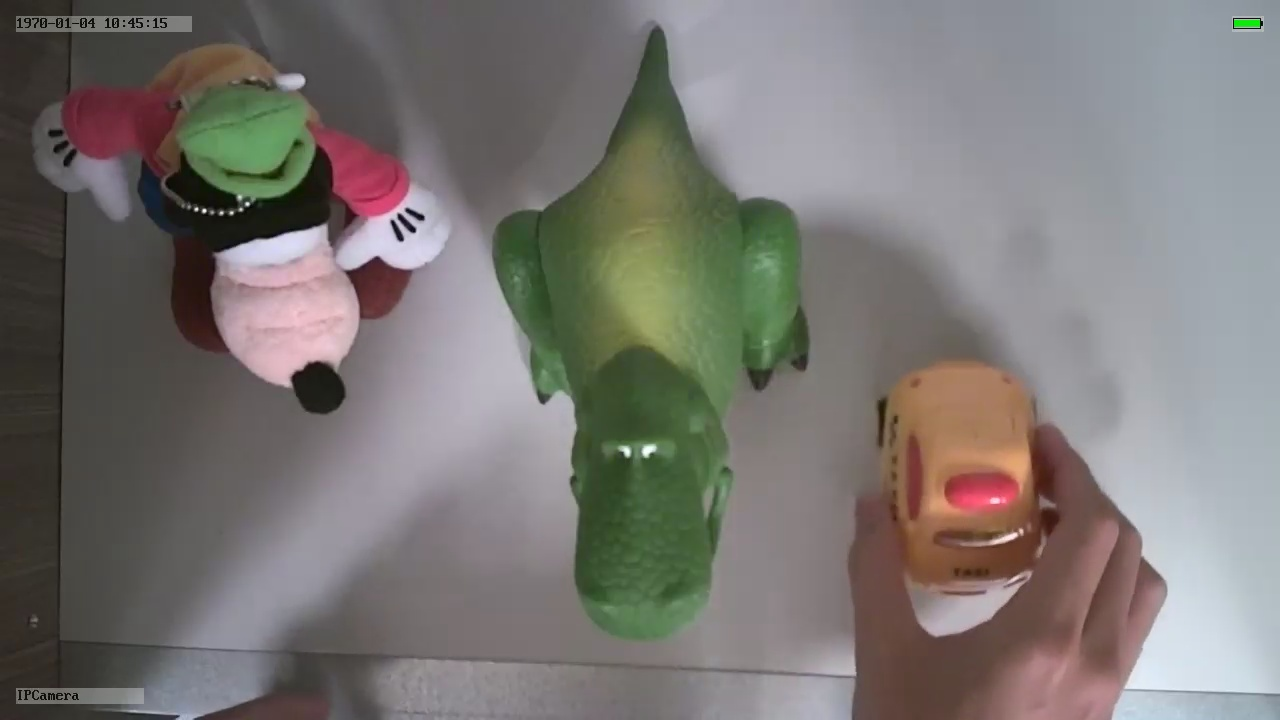goofy: (30, 39, 452, 418)
rex: (494, 106, 813, 638)
